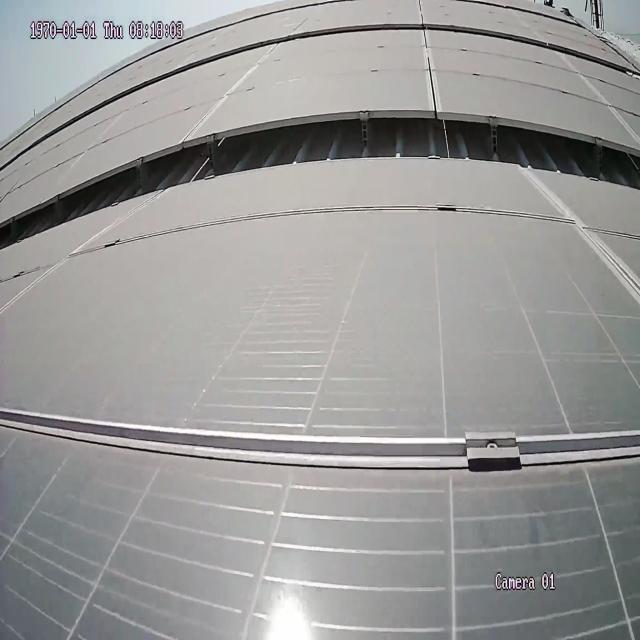interior panel: (3, 400, 635, 475), (520, 174, 640, 303), (419, 29, 443, 102)
outher panel: (3, 105, 640, 251)
